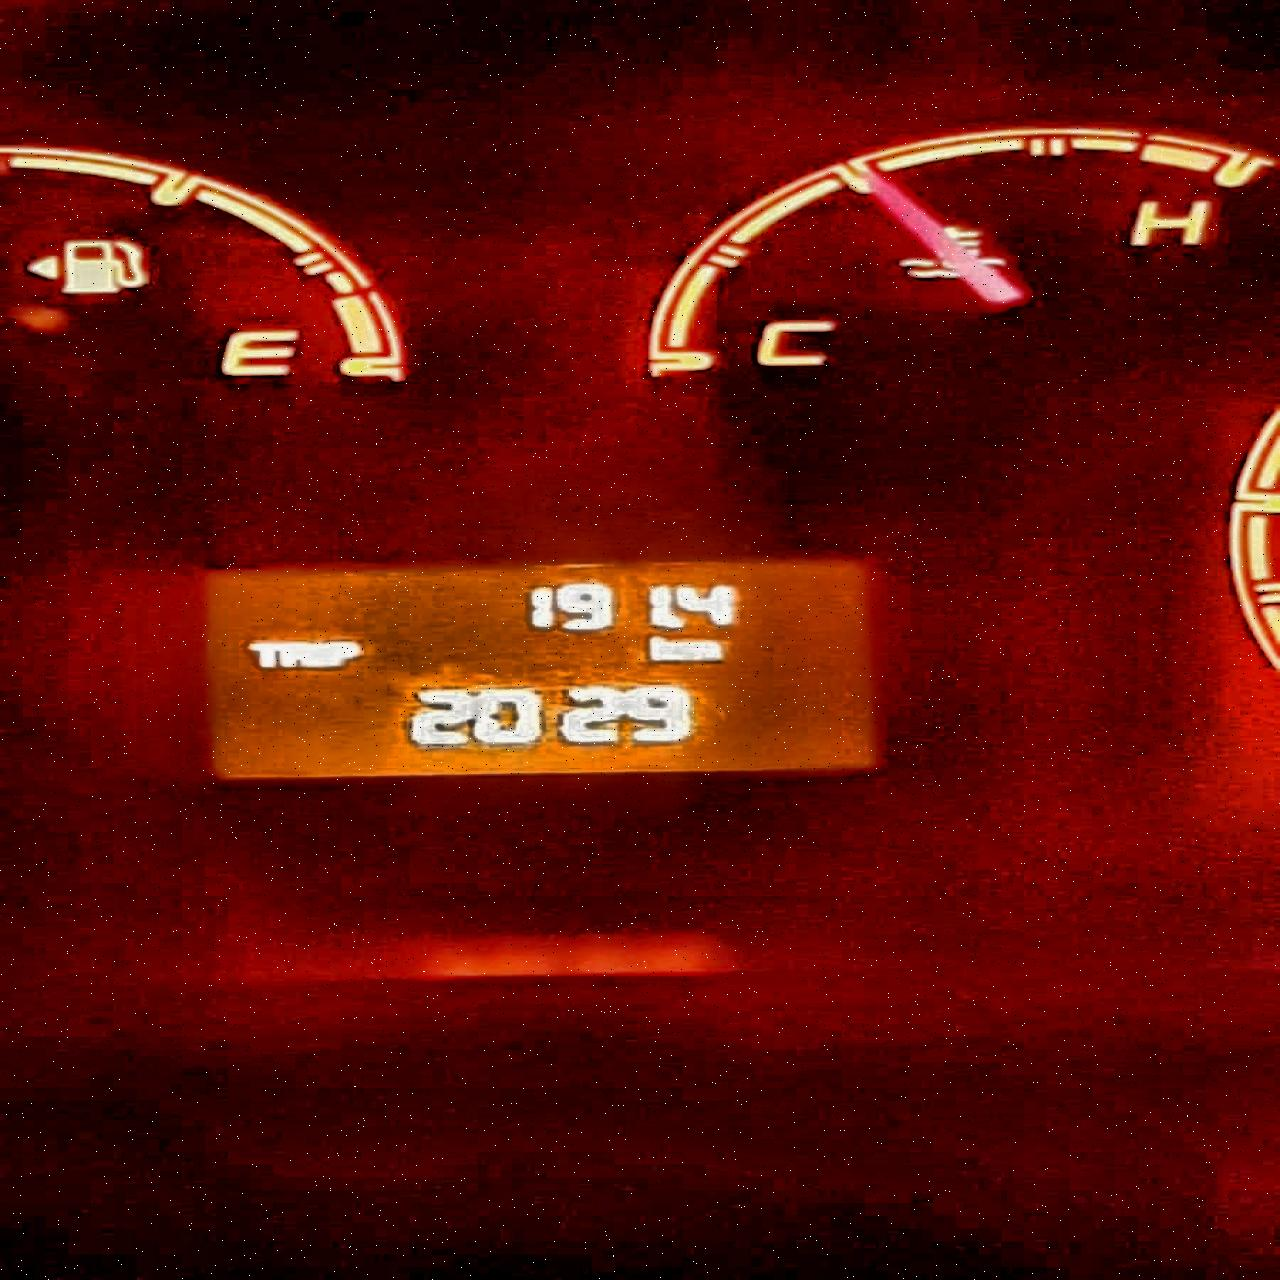-: (668, 615, 686, 628)
0: (470, 687, 544, 745)
1: (525, 585, 553, 629), (645, 583, 672, 628)
2: (406, 687, 471, 747), (558, 685, 620, 745)
4: (673, 581, 740, 626)
9: (621, 685, 695, 744), (553, 581, 615, 632)
X: (680, 638, 721, 663), (245, 641, 281, 669), (327, 639, 361, 668), (648, 635, 680, 663), (282, 639, 313, 667), (313, 639, 325, 670)
odometer: (189, 551, 892, 788)
